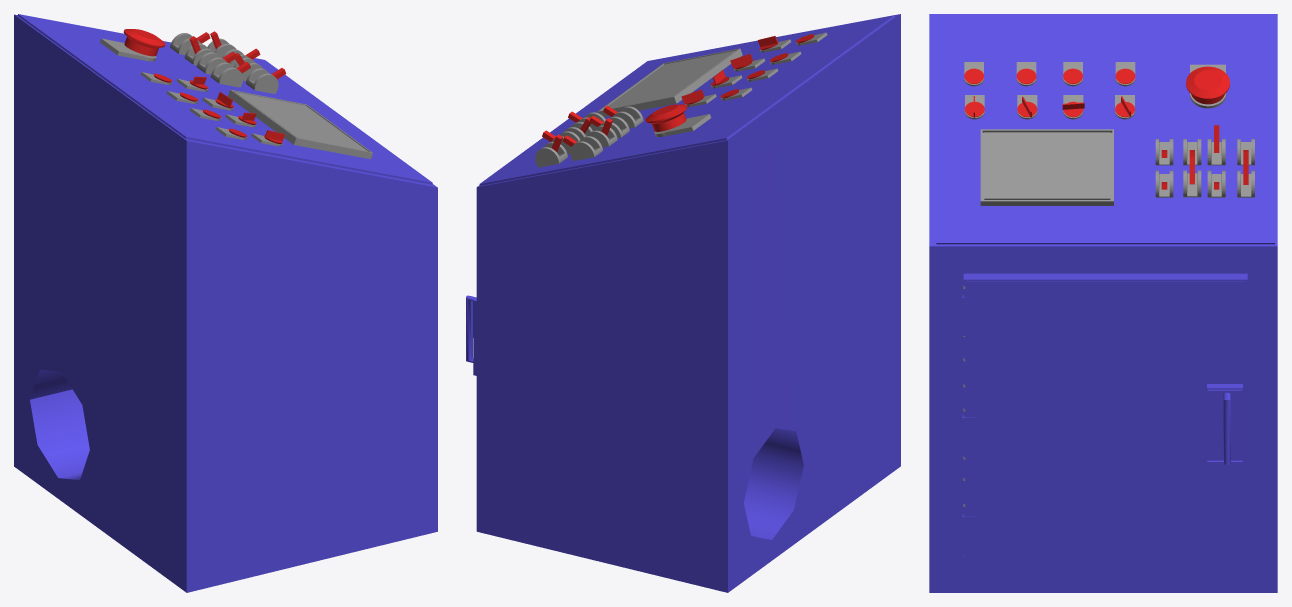
File: control_panel_V6.FBX
3 renders of one model, left to right at view 1: azimuth 30°, elevation 25°; view 2: azimuth 150°, elevation 25°; view 3: azimuth 270°, elevation 25°, orthographic.
Visible parts, largest first — view 1: Object003; view 2: Object003; view 3: Object003.
Boxes of the visible parts, bbox=[...] form: Object003: bbox=[14, 14, 437, 592]; Object003: bbox=[466, 14, 900, 592]; Object003: bbox=[929, 14, 1277, 592].
Size of the model in its own units: 65.84 by 99.56 by 68.83.
